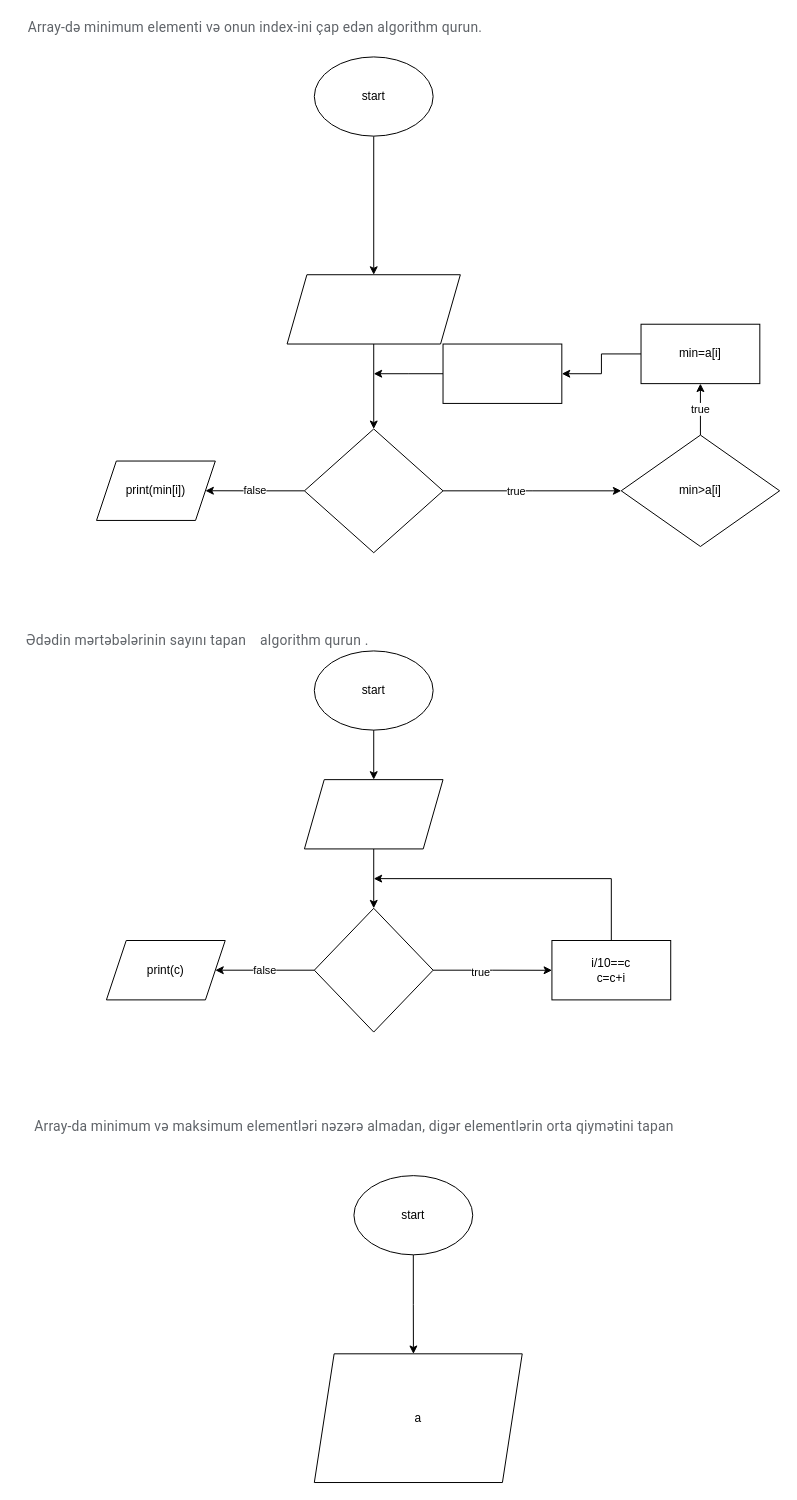
Some shapes in this 797 by 1500 pixel diagram are drawn without their labels. Here are the shapes that lost their labels. From the top down, the box of each, then its label:
(286, 274, 460, 344): a[i]={b,c,d} min=a[0[
(442, 343, 562, 403): i++
(303, 428, 443, 553): int i=0;i<j;i++
(303, 779, 443, 849): let n c=0
(313, 907, 433, 1032): int i=0; i<n;i++
